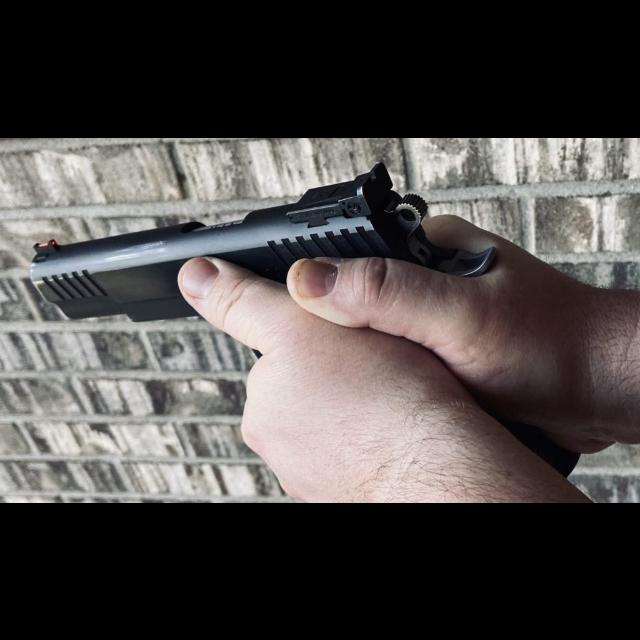handgun: (24, 150, 500, 324)
